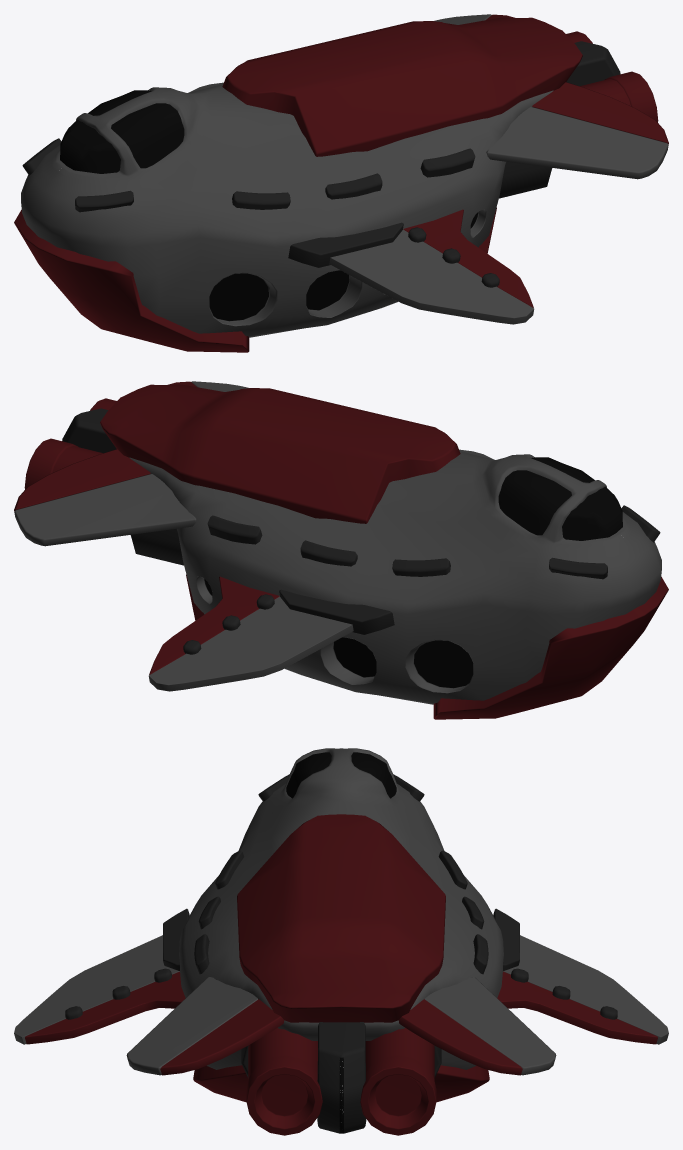
File: colony_Transporter.glb
3 views of the same model, one above another, from view 1: azimuth 30°, elevation 25°; view 2: azimuth 150°, elevation 25°; view 3: azimuth 270°, elevation 25° (orthographic). The views are drawn at different scales.
Parts seen in each view (by area): view 1: Transporter; view 2: Transporter; view 3: Transporter.
Boxes of the visible parts, x1=… form: Transporter: x1=14, y1=14, x2=668, y2=352; Transporter: x1=14, y1=381, x2=668, y2=719; Transporter: x1=14, y1=748, x2=668, y2=1135.
Size of the model in its own units: 884 by 346 by 822.
Materials: 1 (1 with a texture image).
